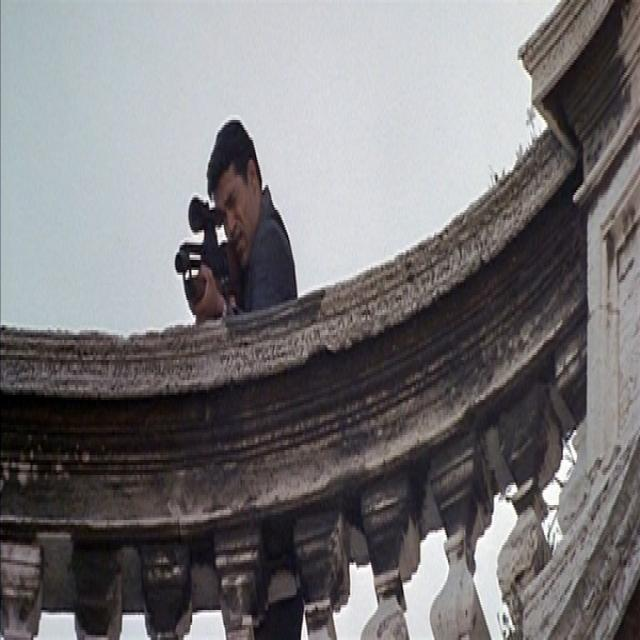rifle: (176, 192, 241, 320)
